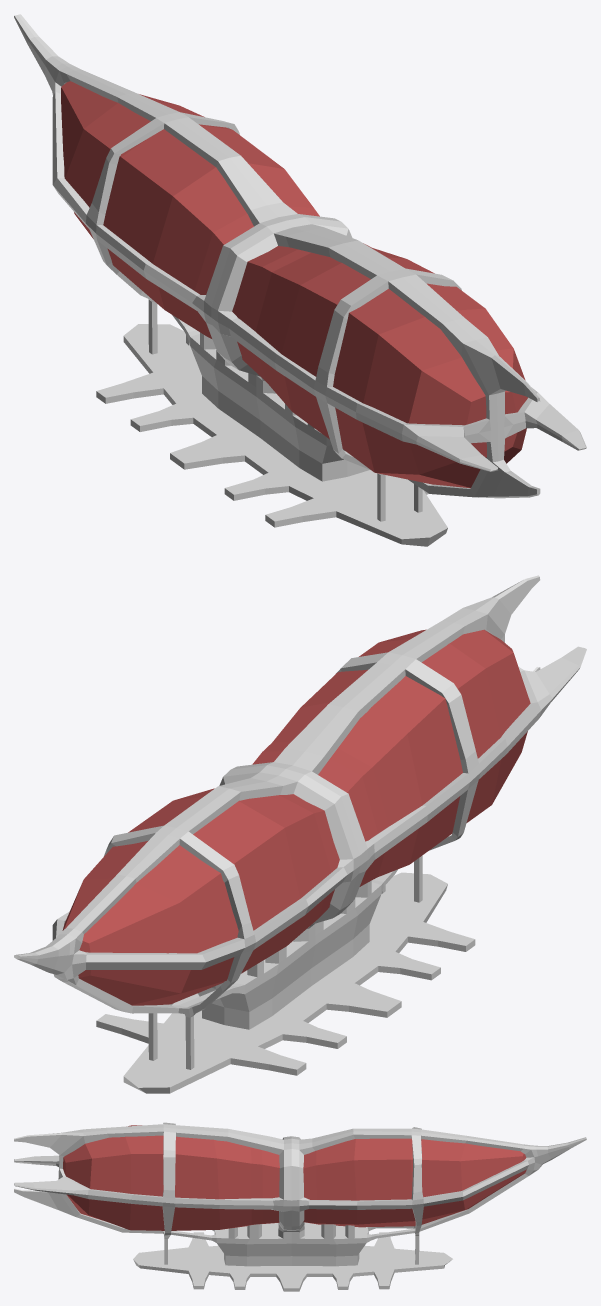
The model's file is Airship_Long.fbx.
3 renders of one model, top to bottom at view 1: azimuth 30°, elevation 25°; view 2: azimuth 150°, elevation 25°; view 3: azimuth 270°, elevation 25°, orthographic. The views are drawn at different scales.
Visible parts, largest first — view 1: Deck, Airship; view 2: Deck, Airship; view 3: Deck, Airship.
Part boxes in pixels (box(x1,y1,x2,y2)): Deck: box(14, 14, 586, 546); Airship: box(61, 81, 527, 488); Deck: box(14, 575, 586, 1093); Airship: box(62, 629, 530, 1005); Deck: box(14, 1122, 586, 1291); Airship: box(63, 1125, 526, 1230).
Size of the model in its own units: 468 by 516 by 1946.
